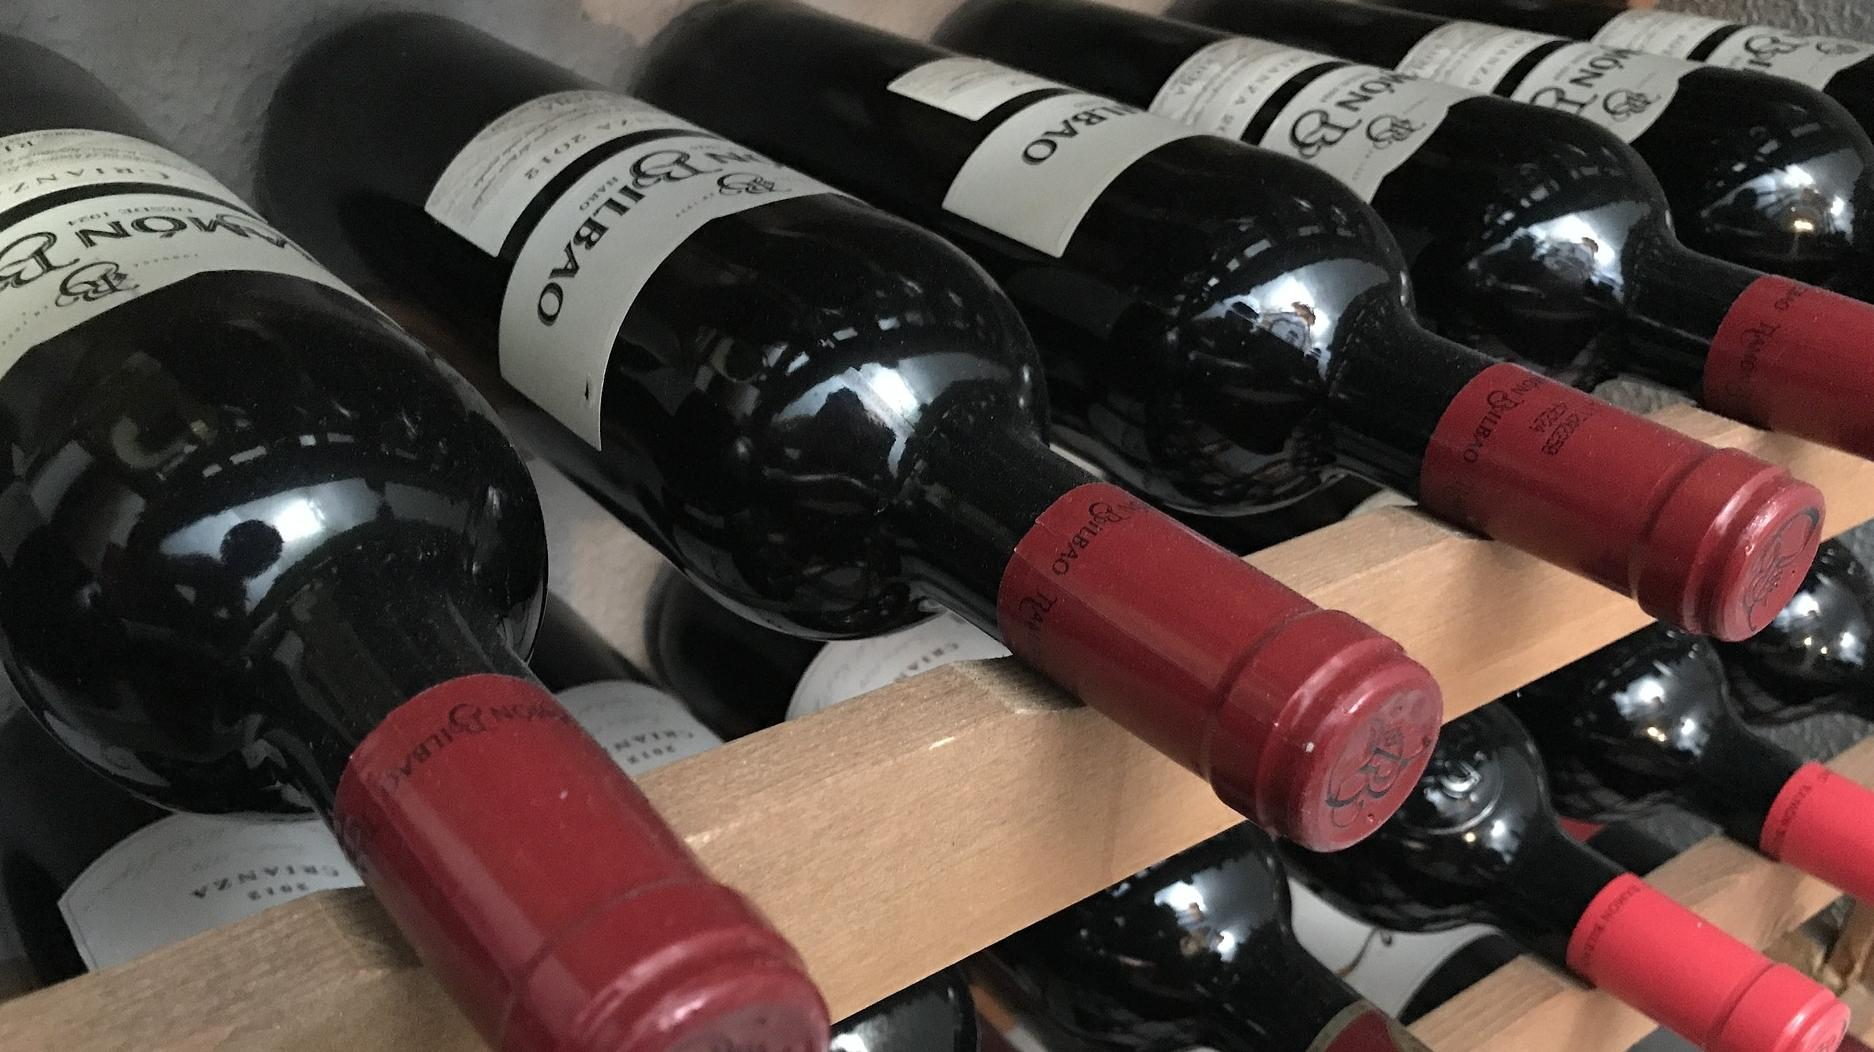wine bottle: (255, 9, 1445, 850), (0, 31, 835, 1052), (618, 0, 1828, 639), (924, 0, 1874, 461), (1162, 0, 1874, 304), (1266, 698, 1857, 1052), (932, 819, 1451, 1052), (1507, 619, 1874, 910)
wine label: (493, 131, 839, 440), (0, 193, 380, 381), (941, 90, 1191, 258), (1264, 62, 1480, 194), (1516, 41, 1698, 140)
